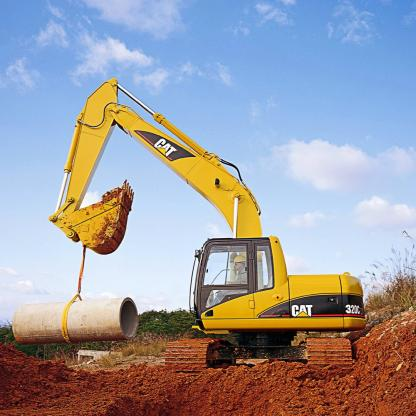excavator: (39, 73, 396, 382)
